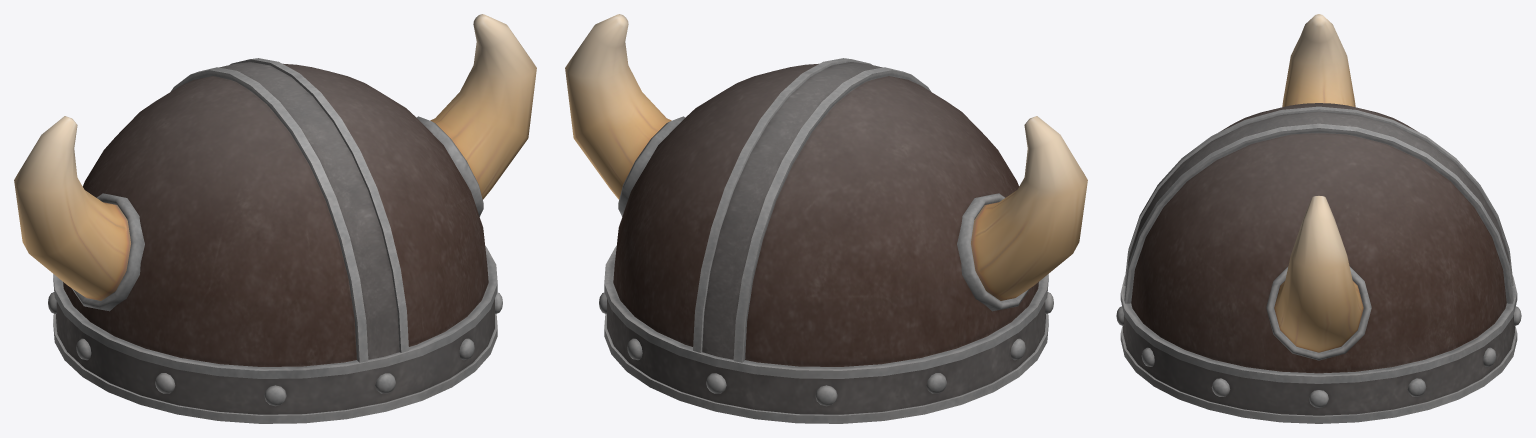
File: VikingHelmet.FBX
3 renders of one model, left to right at view 1: azimuth 30°, elevation 25°; view 2: azimuth 150°, elevation 25°; view 3: azimuth 270°, elevation 25°, orthographic. The views are drawn at different scales.
Visible parts, largest first — view 1: VikingHelmet; view 2: VikingHelmet; view 3: VikingHelmet.
Part boxes in pixels (left/top/right/bottom): VikingHelmet: left=14, top=14, right=536, bottom=423; VikingHelmet: left=565, top=14, right=1087, bottom=423; VikingHelmet: left=1116, top=14, right=1521, bottom=423.
Bounding box in the file's own units: 50.31 × 24.71 × 38.56.
1 material, 1 textured.
